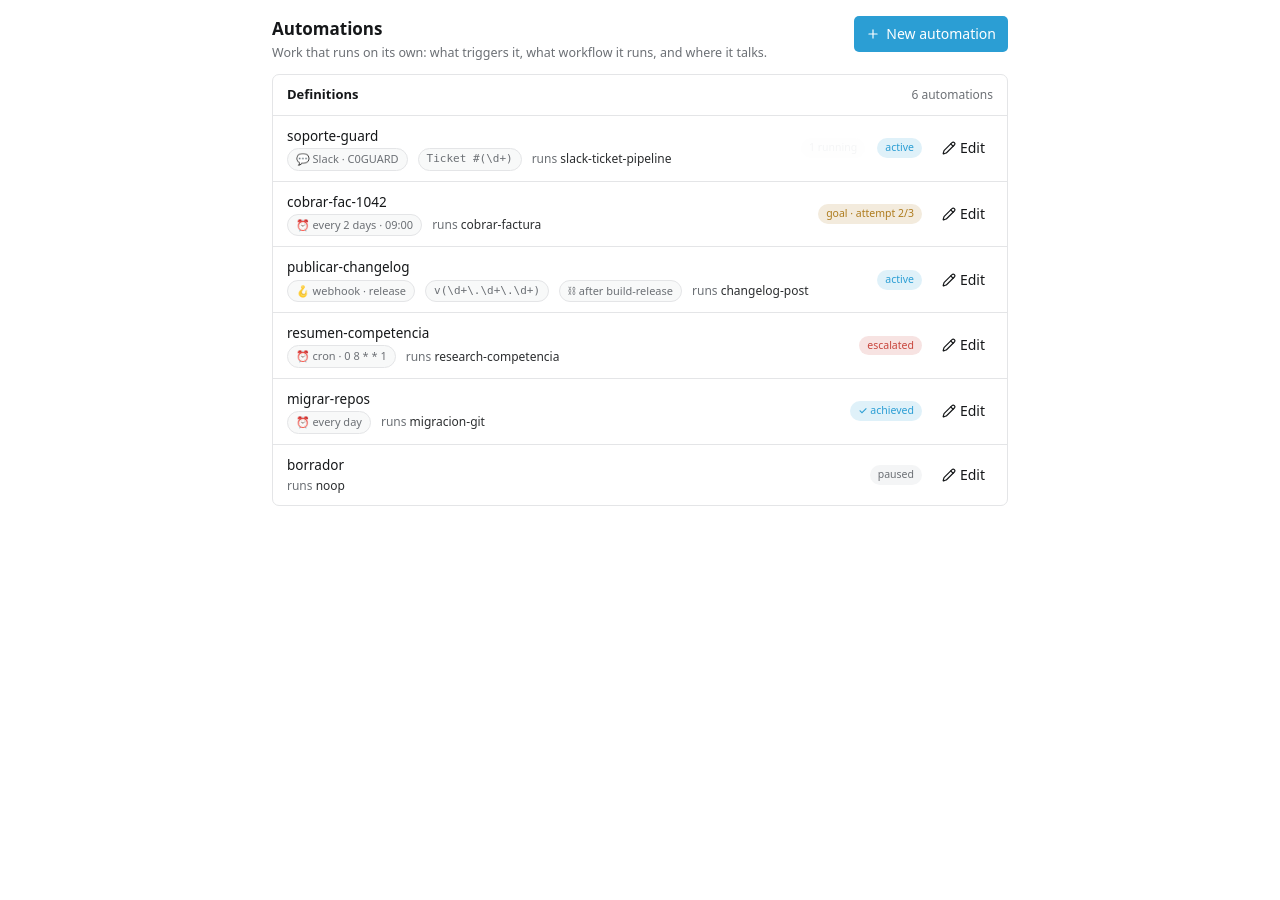
AutomationsView › clicking New automation opens the create form, replacing the list; Cancel returns to it
This screenshot has width=1280, height=900.
expect the text "soporte-guard" is shown: met, box [287,127,378,145]
Click the button "New automation" at (931, 34), box [854,16,1008,52]
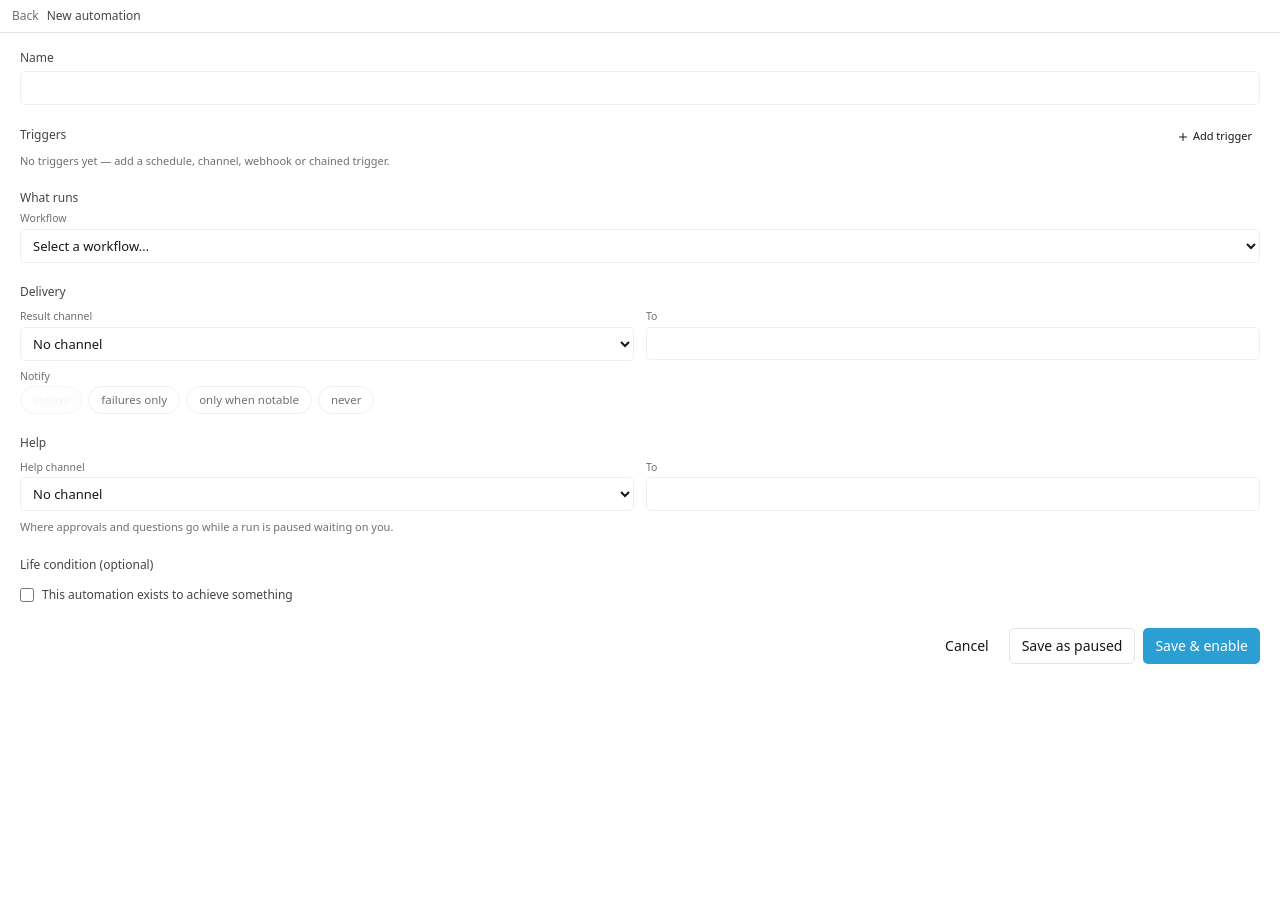
expect the field labelled "Name" is empty: met, box [20,71,1260,104]
expect the button "soporte-guard" is gone: met
Click the button "Cancel" at (967, 646), box [933,628,1001,664]
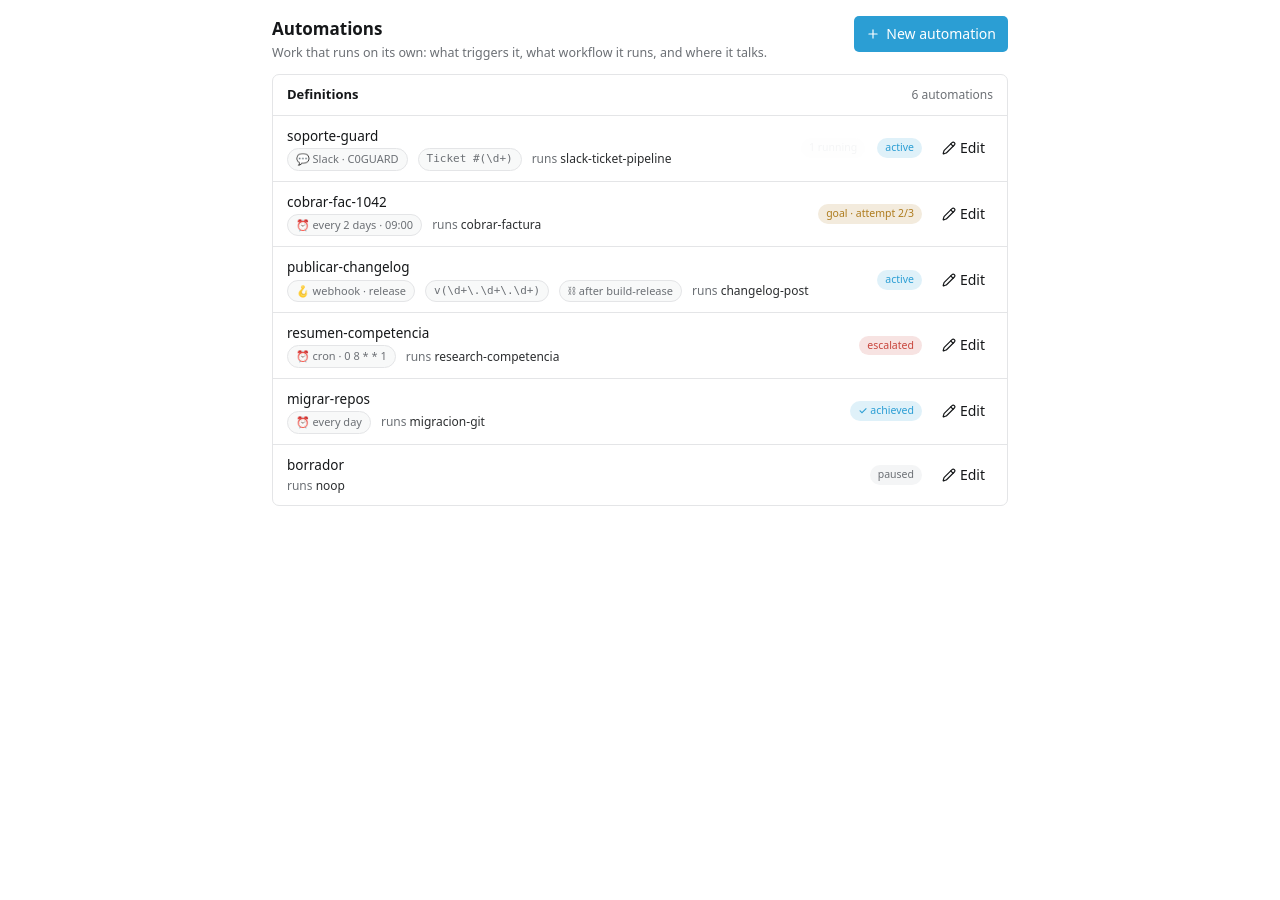
expect the text "soporte-guard" is shown: met, box [287,127,378,145]
